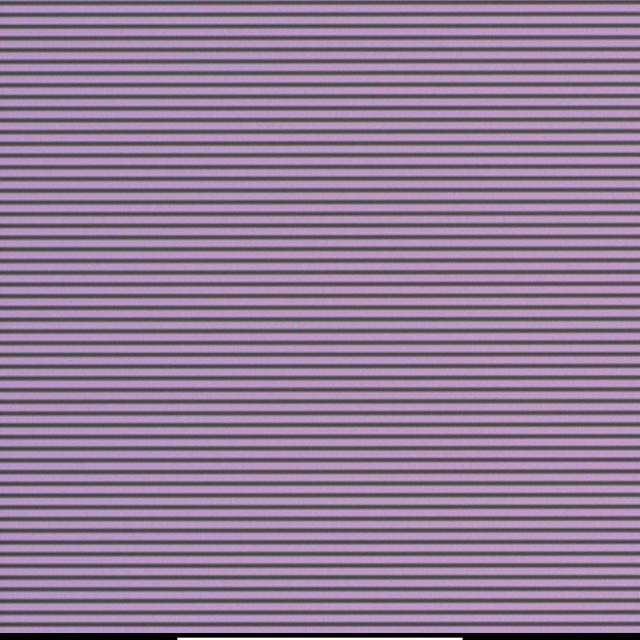nonvisual: (293, 319, 301, 331)
